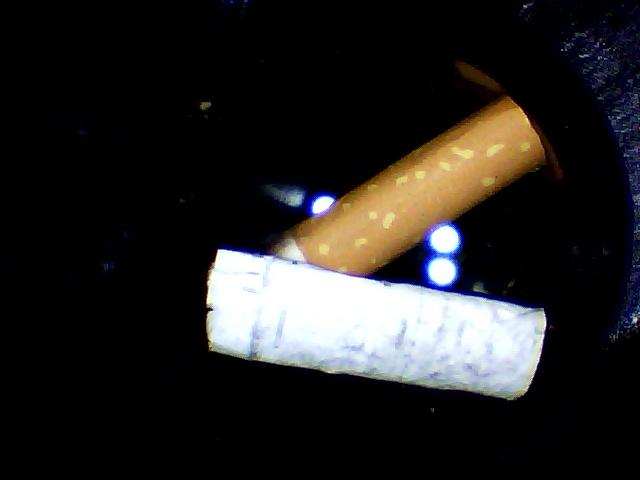megot: (192, 241, 554, 409), (254, 87, 550, 279)
